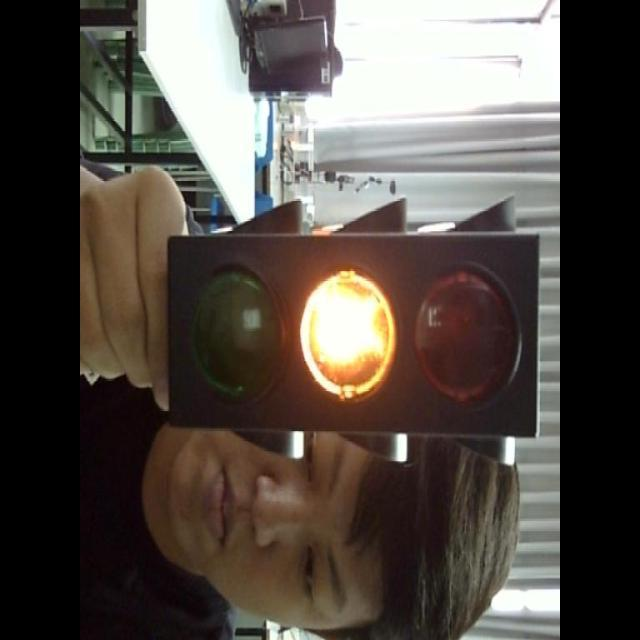yellow_light: (168, 232, 535, 434)
